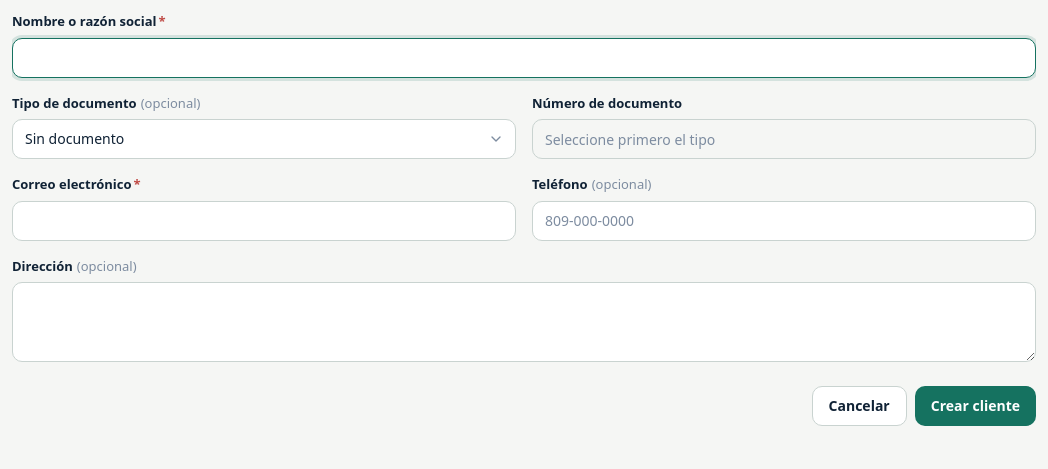
Test: ClientForm › requires the number once a document type is chosen
Type "Ana Pérez" into the field labelled "Nombre o razón social*" at x=524, y=58, box [12,38,1036,78]
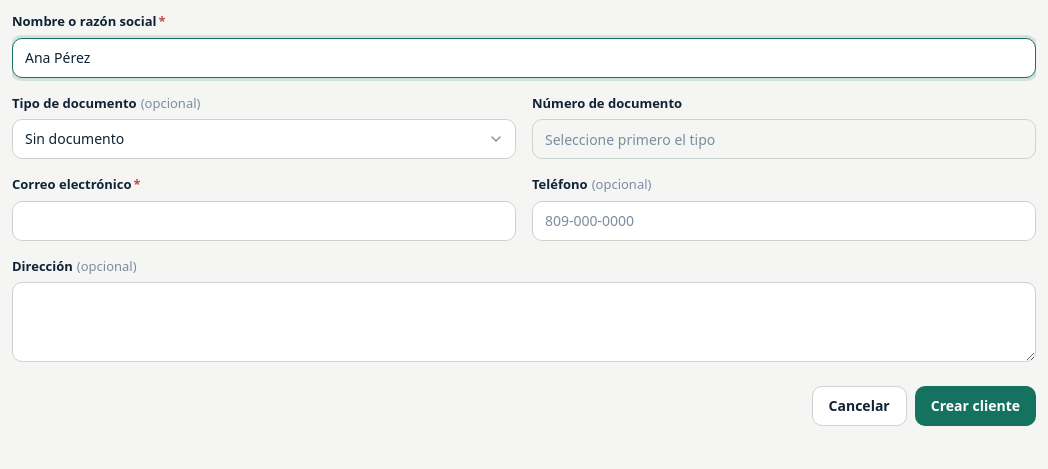
Type "ana@ejemplo.test" into the field labelled "Correo electrónico*" at x=264, y=220, box [12,200,516,240]
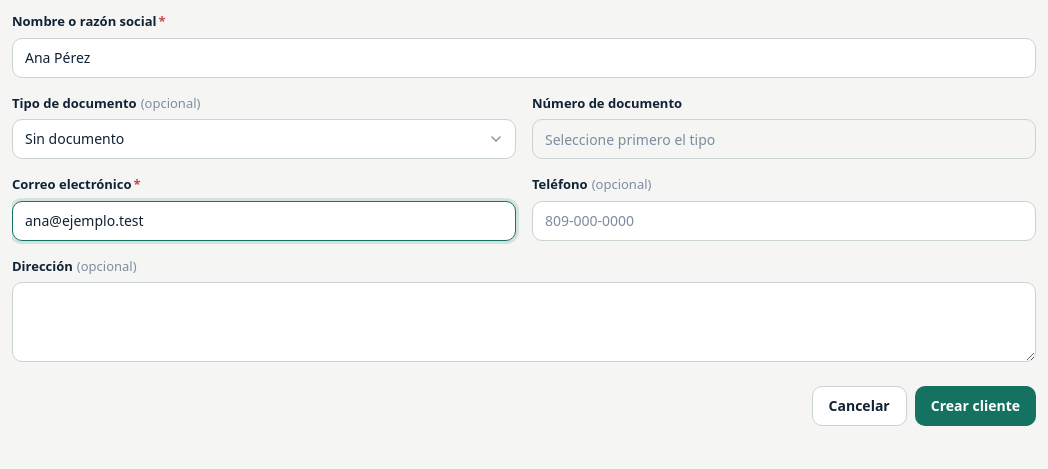
Select "Cédula" in the dropdown labelled "Tipo de documento(opcional)" at x=264, y=139, box [12,119,516,159]
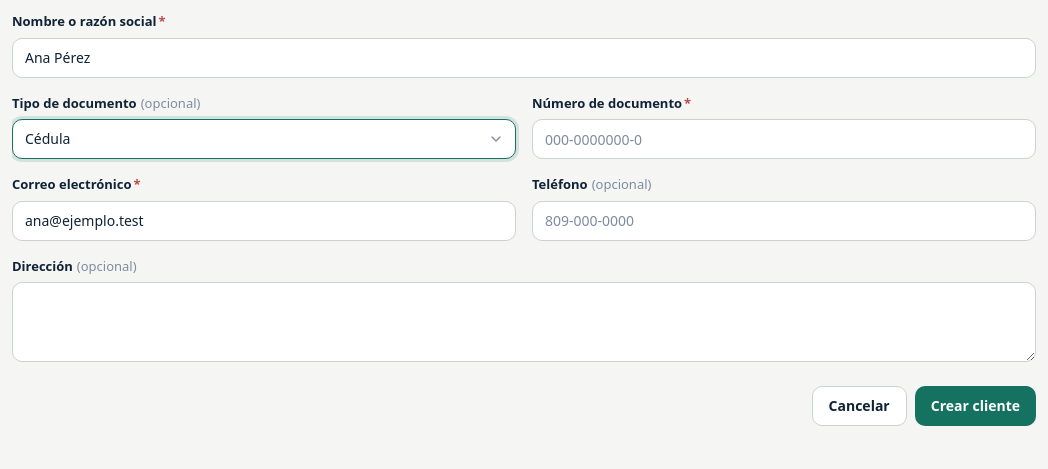
Click the button "Crear cliente" at x=975, y=406, box [915,386,1036,426]
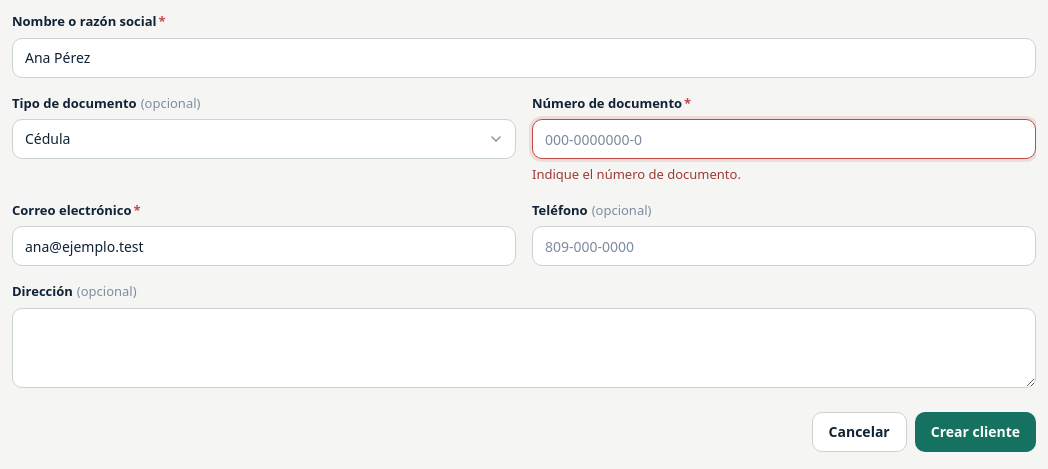
Check: the text "Indique el número de documento." is shown, box [532,165,741,183]
